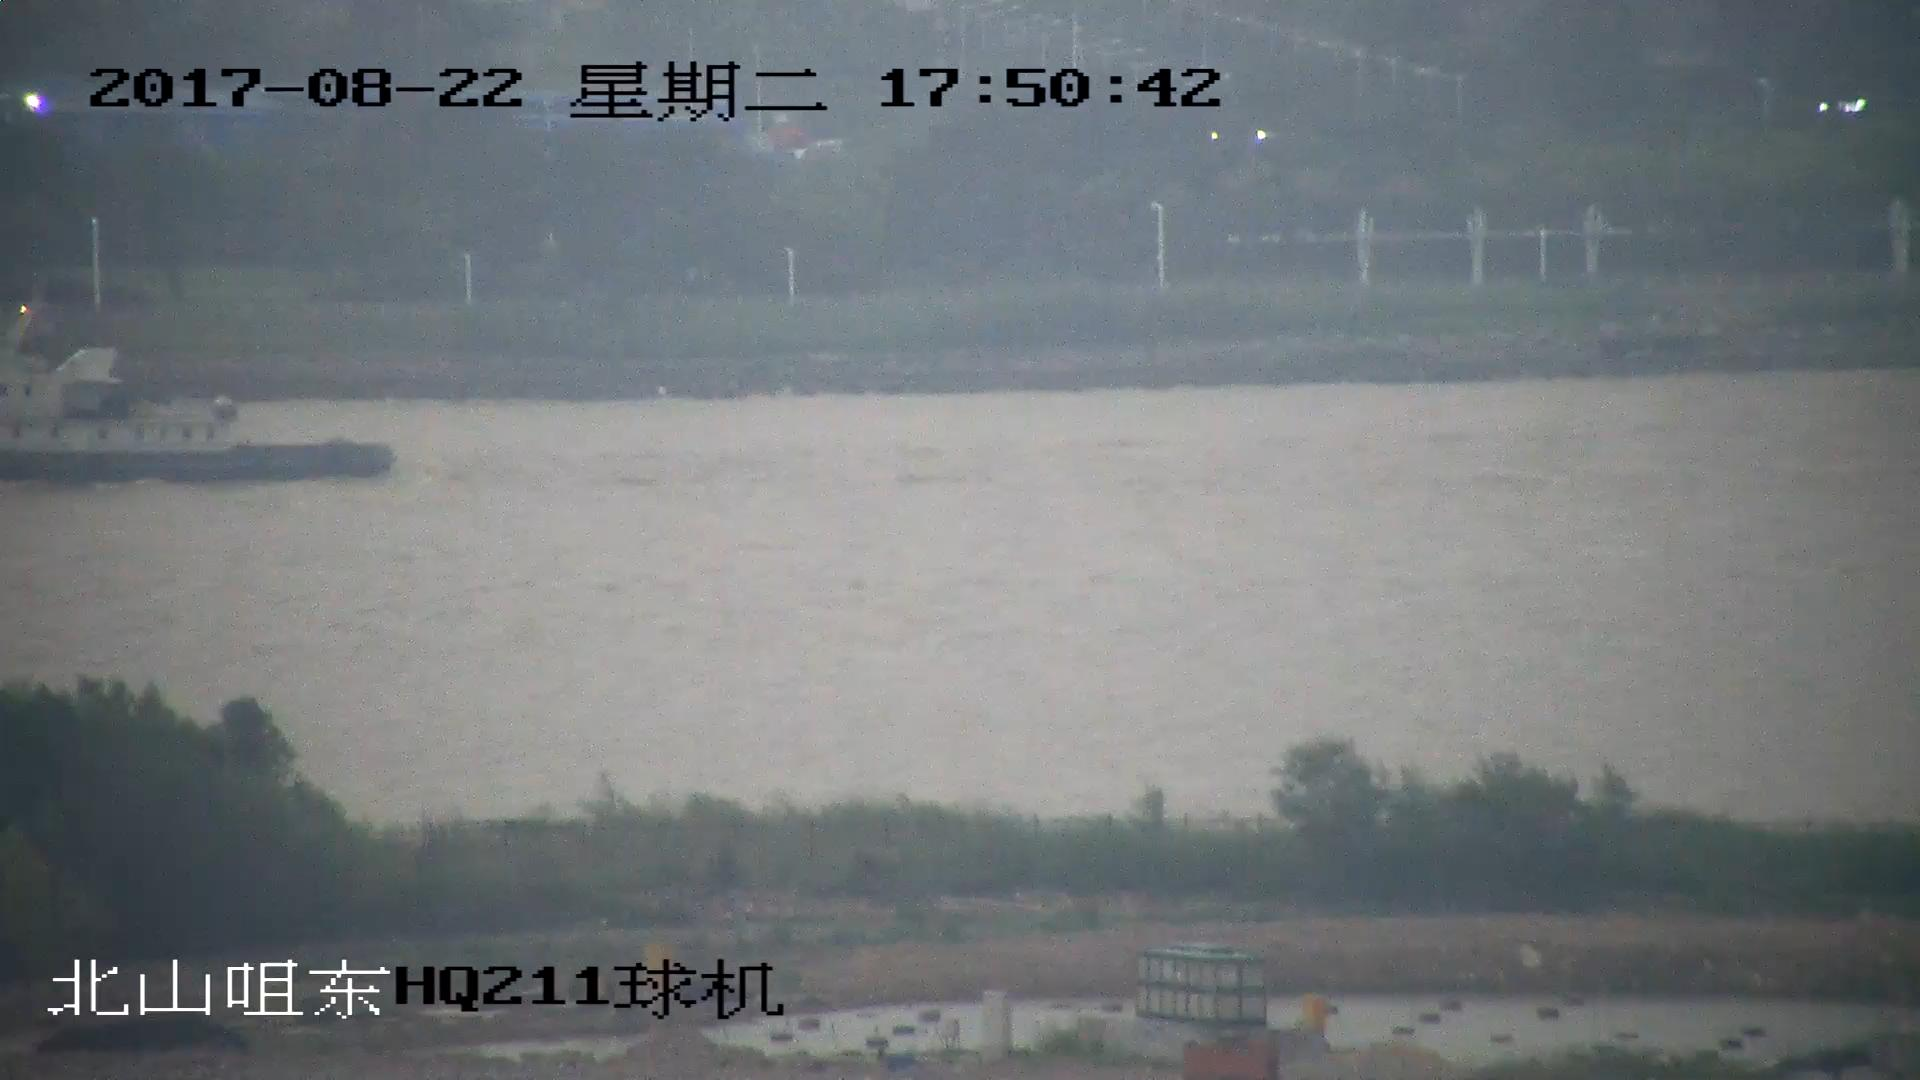passenger ship: (1, 316, 402, 485)
